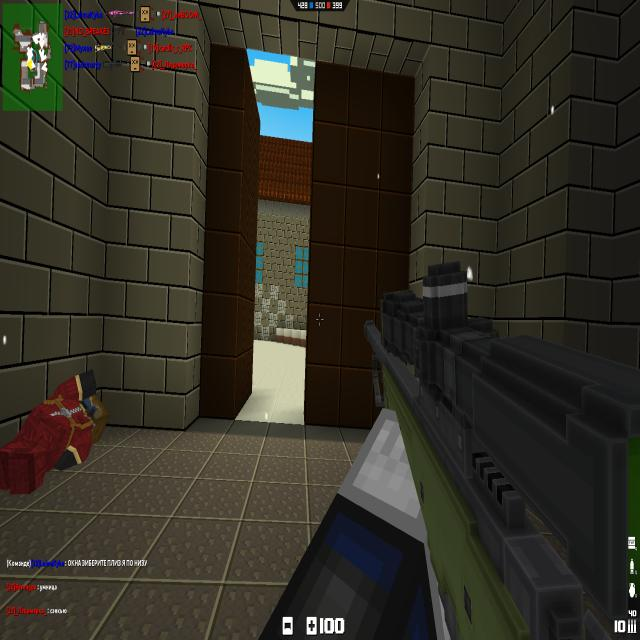player: (1, 369, 113, 497)
